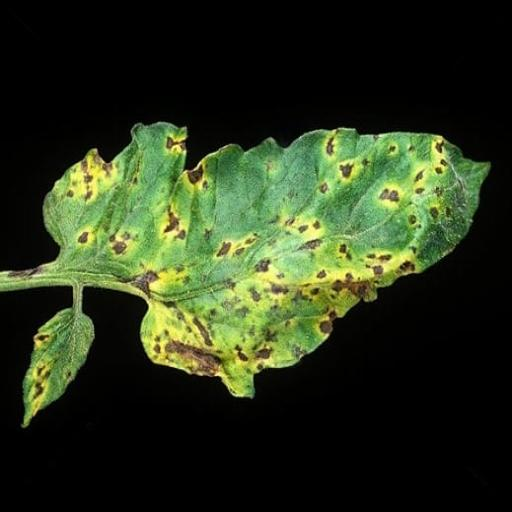Septoria: (42, 122, 492, 402), (16, 304, 96, 427)
